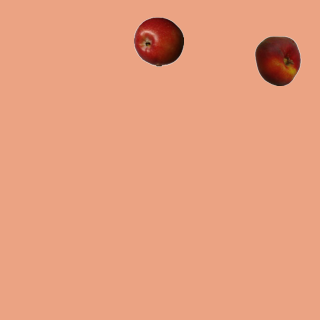Apple Braeburn: (133, 16, 183, 66)
Nectarine Flat: (252, 35, 302, 85)
